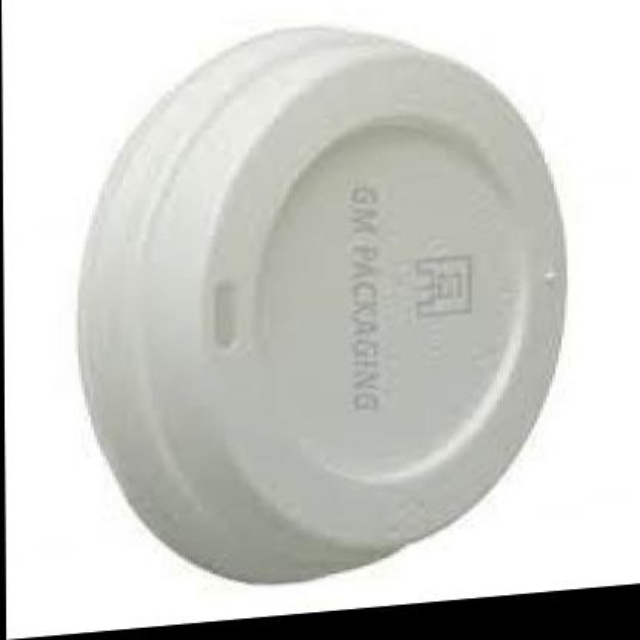trash: (78, 28, 565, 582)
